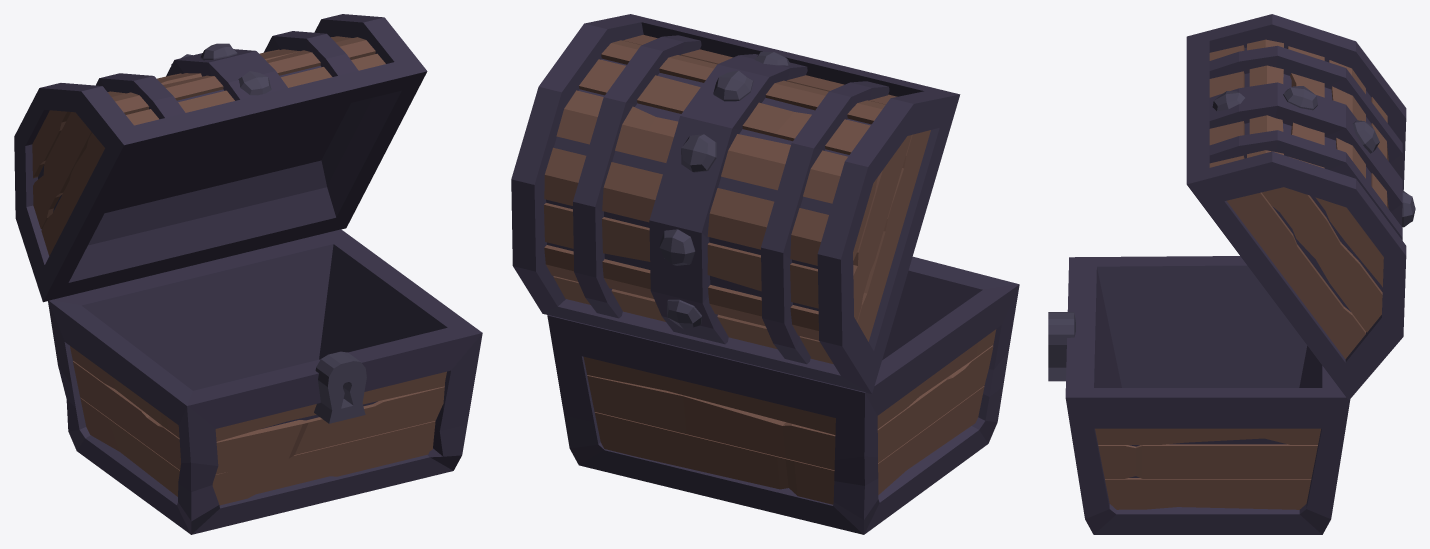
Rendered from Chest_Open.glb.
3 renders of one model, left to right at view 1: azimuth 30°, elevation 25°; view 2: azimuth 150°, elevation 25°; view 3: azimuth 270°, elevation 25°, orthographic. The views are drawn at different scales.
Visible parts, largest first — view 1: Chest_Open; view 2: Chest_Open; view 3: Chest_Open.
Boxes of the visible parts, box(x1,y1,x2,y2) form: Chest_Open: box(14, 14, 482, 534); Chest_Open: box(511, 14, 1019, 534); Chest_Open: box(1048, 14, 1415, 534).
Bounding box in the file's own units: 0.1519 × 0.1836 × 0.1594.
